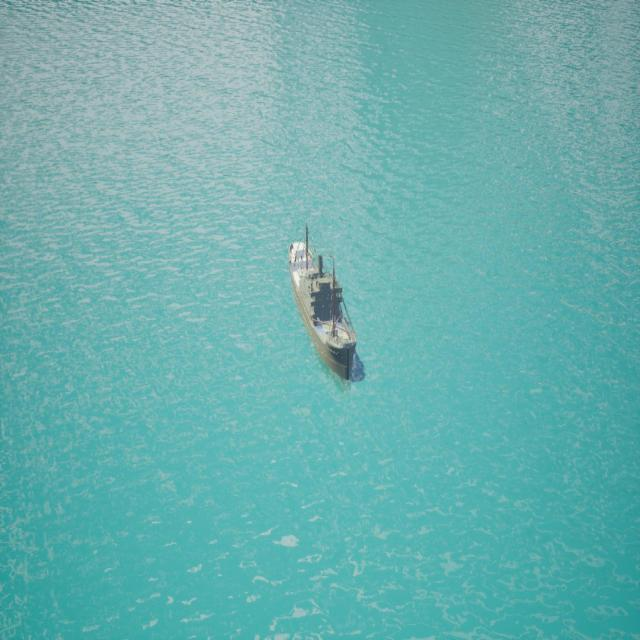fishing ship: (288, 244, 361, 386)
